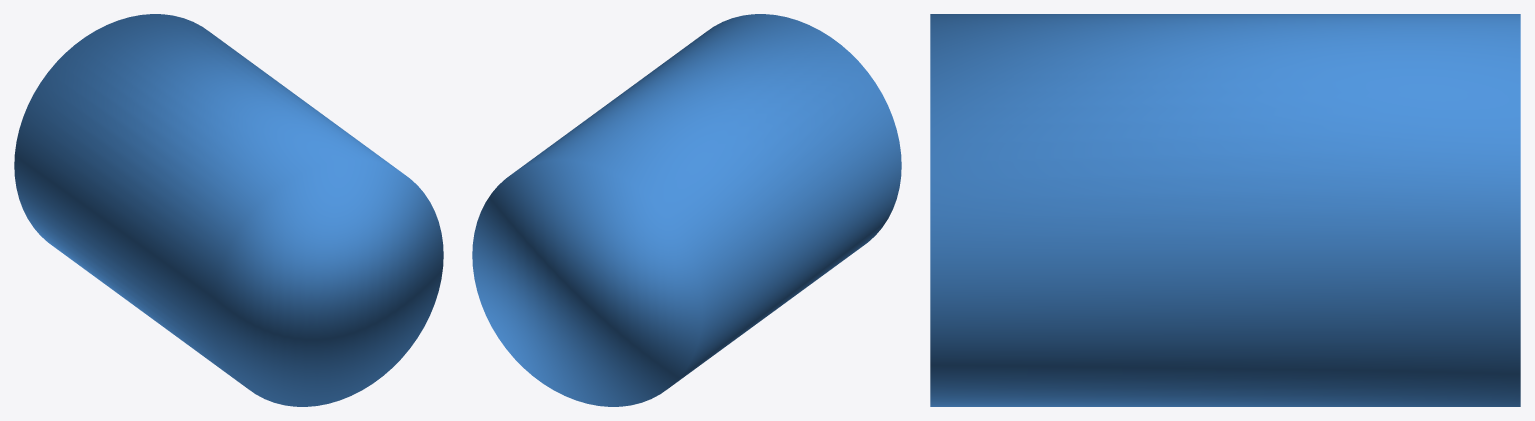
The model's file is expected.gltf.
3 renders of one model, left to right at view 1: azimuth 30°, elevation 25°; view 2: azimuth 150°, elevation 25°; view 3: azimuth 270°, elevation 25°, orthographic. The views are drawn at different scales.
Bounding box in the file's own units: 20 × 20 × 30.
